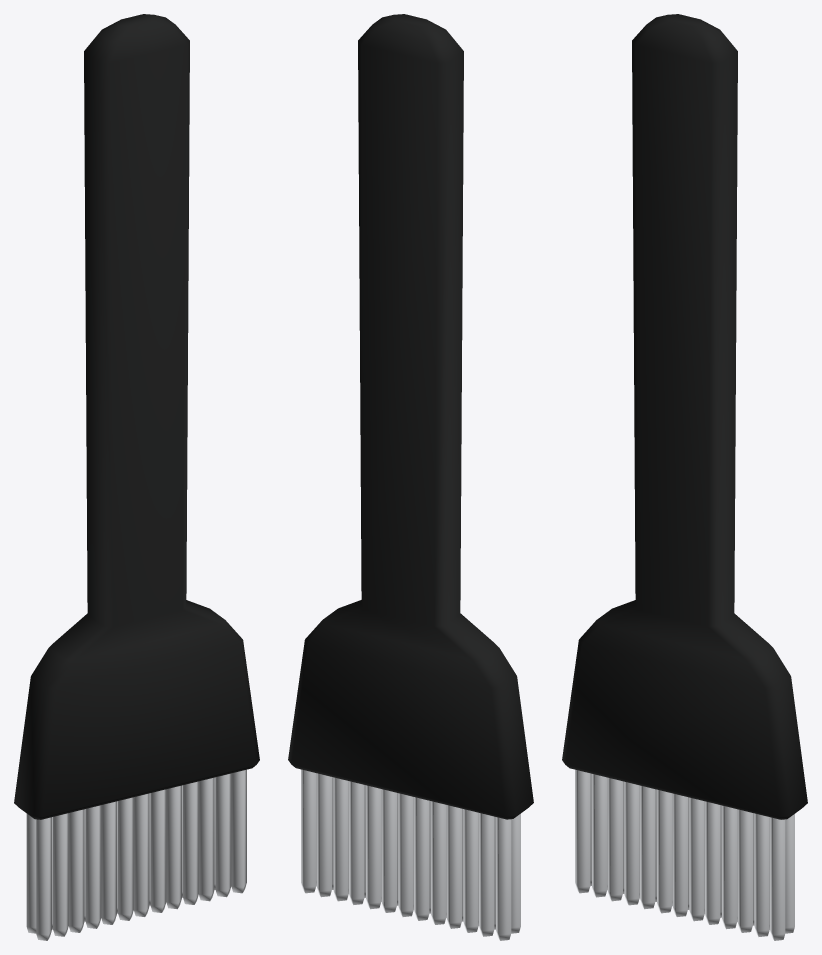
File: cooking_assets_brush.glb
3 renders of one model, left to right at view 1: azimuth 30°, elevation 25°; view 2: azimuth 150°, elevation 25°; view 3: azimuth 330°, elevation 25°, orthographic.
Parts seen in each view (by area): view 1: cutensils_brush_Cube.137; view 2: cutensils_brush_Cube.137; view 3: cutensils_brush_Cube.137.
Boxes of the visible parts, x1=… form: cutensils_brush_Cube.137: x1=14, y1=14, x2=259, y2=940; cutensils_brush_Cube.137: x1=288, y1=14, x2=533, y2=940; cutensils_brush_Cube.137: x1=562, y1=14, x2=807, y2=940.
Size of the model in its own units: 1.84 by 6.87 by 0.3528.
1 material, 1 textured.
